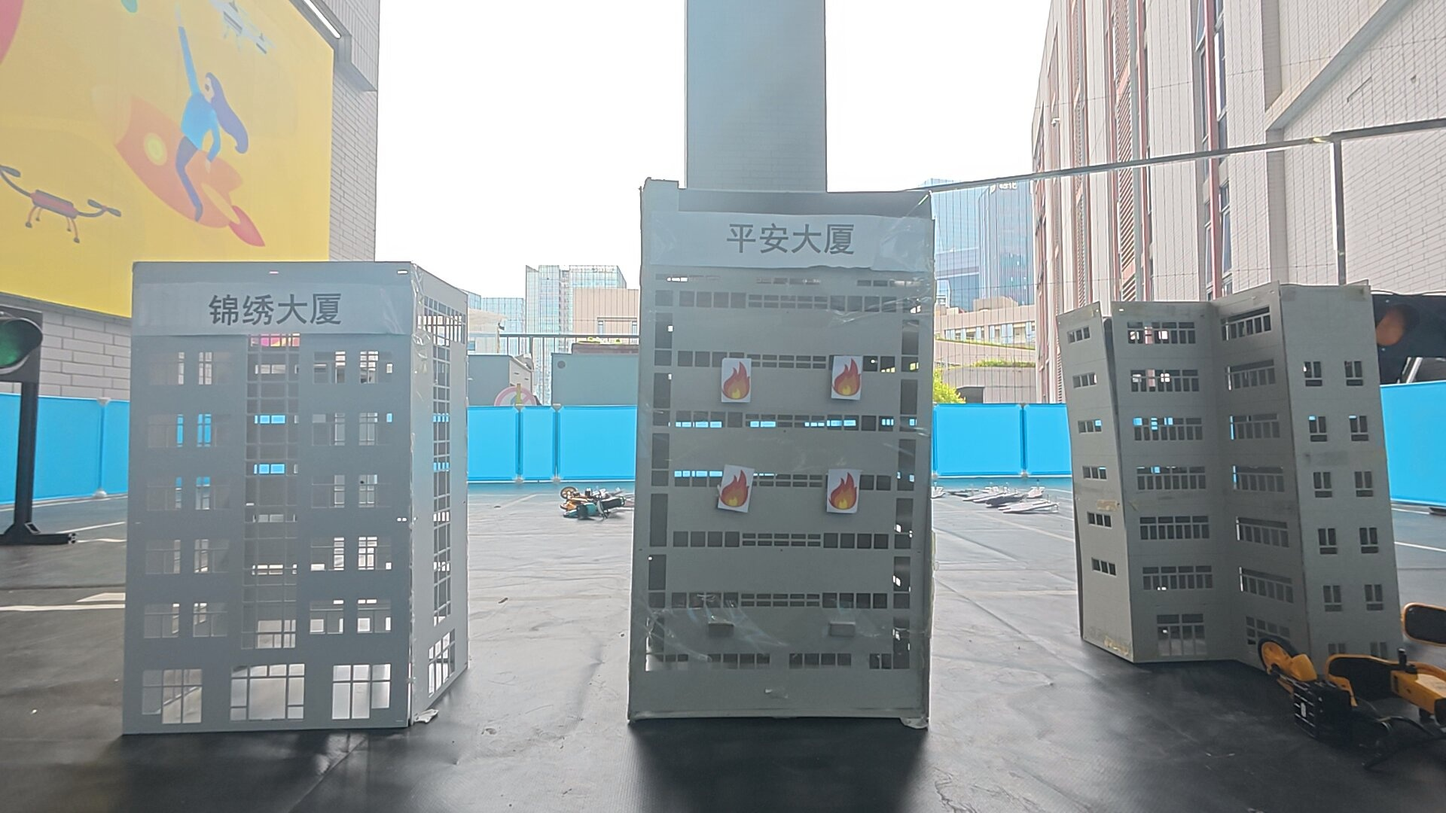fire: (718, 465, 754, 513), (829, 355, 866, 401), (719, 356, 755, 403), (826, 469, 862, 515)
